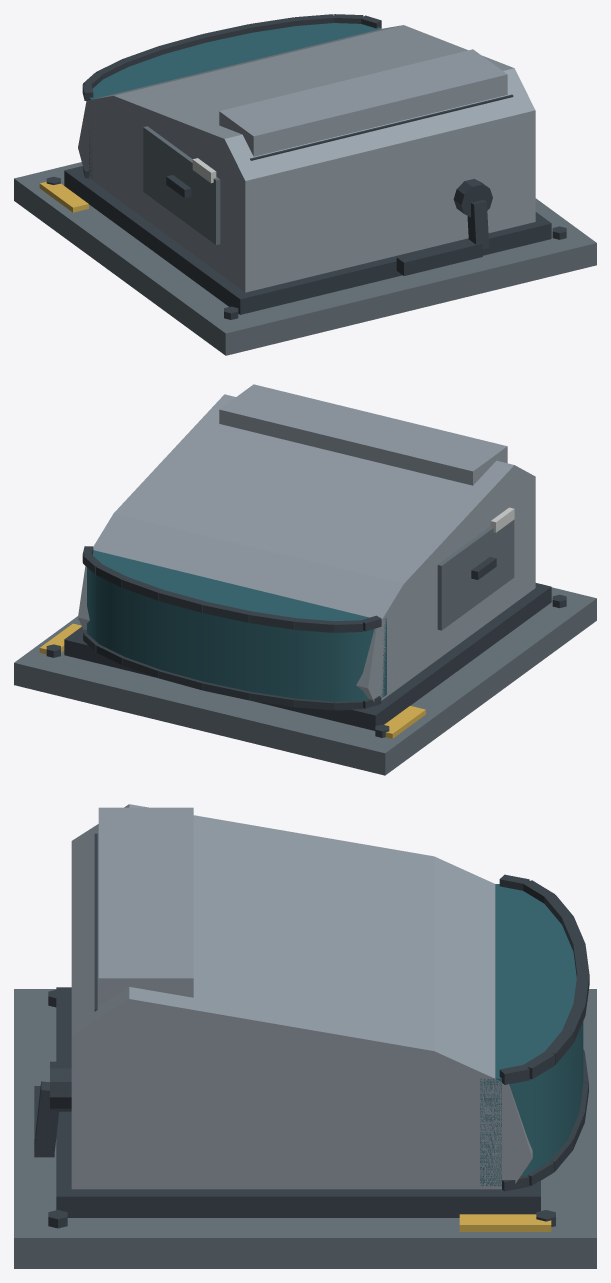
The model's file is MOD_Sonar_Bow.glb.
The picture shows the model from 3 angles, top to bottom: view 1: azimuth 30°, elevation 25°; view 2: azimuth 150°, elevation 25°; view 3: azimuth 270°, elevation 25°; orthographic projection. The views are drawn at different scales.
Visible parts, largest first — view 1: BowWatertightWedgeHousing, BowSonarDeckFoot, AftSealedElectronicsTop, BowSonarIsolationPlinth, ForwardCurvedAcousticWindow, AftSealedElectronicsCover, PortMaintenanceDoor, ProtectedCableDeckRun, AftCableGland, AftCoverGasket, ProtectedCableDrop, ForwardPlacementTab_Port (+1 smaller); view 2: BowWatertightWedgeHousing, BowSonarDeckFoot, ForwardCurvedAcousticWindow, AftSealedElectronicsTop, BowSonarIsolationPlinth, PortMaintenanceDoor, AftSealedElectronicsCover, ForwardPlacementTab_Port, AcousticUpperSeal_05, AcousticUpperSeal_06, AcousticUpperSeal_04; view 3: BowWatertightWedgeHousing, BowSonarDeckFoot, ForwardCurvedAcousticWindow, AftSealedElectronicsTop, BowSonarIsolationPlinth, ForwardPlacementTab_Starboard, ProtectedCableDrop, AftSealedElectronicsCover, AftCableGland, AftCoverGasket.
Boxes of the visible parts, x1,y1,x2,y2 form: BowWatertightWedgeHousing: (78, 25, 535, 292); BowSonarDeckFoot: (14, 162, 596, 355); AftSealedElectronicsTop: (219, 49, 507, 140); BowSonarIsolationPlinth: (64, 166, 551, 314); ForwardCurvedAcousticWindow: (89, 23, 381, 177); AftSealedElectronicsCover: (219, 77, 507, 156); PortMaintenanceDoor: (143, 126, 220, 244); ProtectedCableDeckRun: (396, 240, 482, 275); AftCableGland: (453, 179, 492, 217); AftCoverGasket: (250, 94, 513, 160); ProtectedCableDrop: (467, 200, 489, 249); ForwardPlacementTab_Port: (39, 182, 88, 212); BowWatertightWedgeHousing: (78, 394, 535, 701); BowSonarDeckFoot: (14, 587, 596, 775); ForwardCurvedAcousticWindow: (87, 550, 386, 701); AftSealedElectronicsTop: (219, 384, 507, 474); BowSonarIsolationPlinth: (64, 583, 551, 730); PortMaintenanceDoor: (437, 520, 514, 630); AftSealedElectronicsCover: (219, 412, 507, 485); ForwardPlacementTab_Port: (384, 706, 425, 738); AcousticUpperSeal_05: (202, 601, 252, 622); AcousticUpperSeal_06: (158, 590, 205, 612); AcousticUpperSeal_04: (249, 611, 295, 629); BowWatertightWedgeHousing: (71, 804, 532, 1189); BowSonarDeckFoot: (14, 989, 596, 1268); ForwardCurvedAcousticWindow: (480, 884, 583, 1186); AftSealedElectronicsTop: (98, 807, 193, 984); BowSonarIsolationPlinth: (56, 987, 540, 1217); ForwardPlacementTab_Starboard: (459, 1214, 551, 1231); ProtectedCableDrop: (34, 1081, 59, 1153); AftSealedElectronicsCover: (98, 982, 193, 1005); AftCableGland: (50, 1061, 71, 1111); AftCoverGasket: (94, 833, 97, 1011).
Size of the model in its own units: 1.74 by 0.818 by 1.72.
